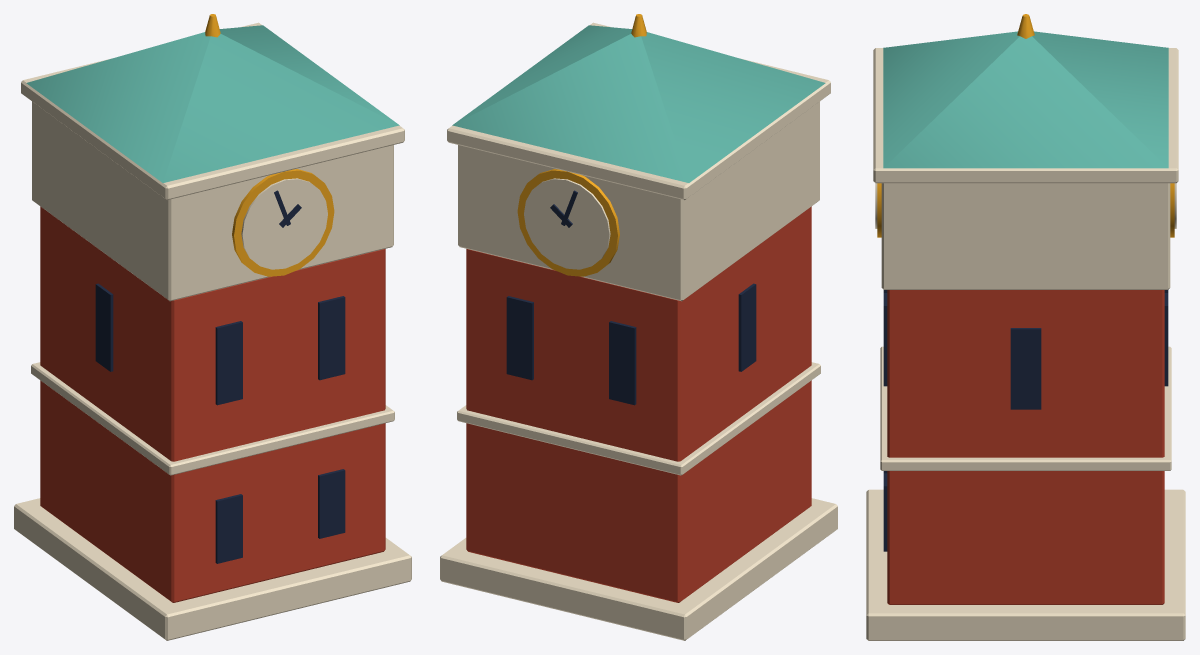
The model's file is clock_tower.obj.
3 views of the same model, side by side, from view 1: azimuth 30°, elevation 25°; view 2: azimuth 150°, elevation 25°; view 3: azimuth 270°, elevation 25° (orthographic). The views are drawn at different scales.
Parts seen in each view (by area): view 1: shaft, roof, clock_housing, base, cornice, clock_face_front, belt_course, clock_rim_front, slit_zp_r, slit_zp_l, door_slit_l, door_slit_r (+1 smaller); view 2: shaft, roof, clock_housing, base, cornice, clock_face_back, belt_course, clock_rim_back, slit_zm_r, slit_zm_l, slit_x_l; view 3: shaft, roof, clock_housing, base, cornice, belt_course, slit_x_r, slit_zp_r, slit_zm_r.
Part boxes in pixels (<box>): shaft: <box>40,206,385,602</box>; roof: <box>26,25,399,182</box>; clock_housing: <box>32,101,393,301</box>; base: <box>14,498,411,640</box>; cornice: <box>21,22,404,200</box>; clock_face_front: <box>241,178,327,269</box>; belt_course: <box>31,362,394,475</box>; clock_rim_front: <box>232,169,334,276</box>; slit_zp_r: <box>318,296,345,380</box>; slit_zp_l: <box>215,321,242,405</box>; door_slit_l: <box>215,494,242,563</box>; door_slit_r: <box>318,469,345,538</box>; shaft: <box>466,206,811,602</box>; roof: <box>452,25,825,182</box>; clock_housing: <box>458,101,819,301</box>; base: <box>440,498,837,640</box>; cornice: <box>447,22,830,200</box>; clock_face_back: <box>524,178,610,269</box>; belt_course: <box>457,362,820,475</box>; clock_rim_back: <box>517,169,619,276</box>; slit_zm_r: <box>506,296,533,380</box>; slit_zm_l: <box>609,321,636,405</box>; slit_x_l: <box>738,283,756,371</box>; shaft: <box>887,290,1164,604</box>; roof: <box>883,31,1168,168</box>; clock_housing: <box>881,183,1170,289</box>; base: <box>866,489,1185,640</box>; cornice: <box>873,48,1178,183</box>; belt_course: <box>880,346,1171,470</box>; slit_x_r: <box>1010,328,1041,409</box>; slit_zp_r: <box>883,293,887,386</box>; slit_zm_r: <box>1164,293,1168,386</box>.
Size of the model in its own units: 5.3 by 11.1 by 5.7.
